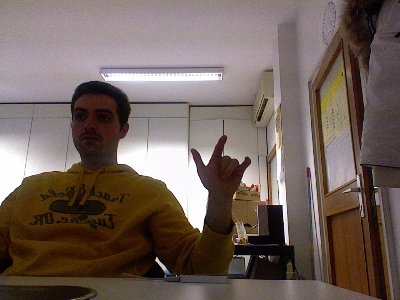我爱你: (189, 132, 252, 196)
